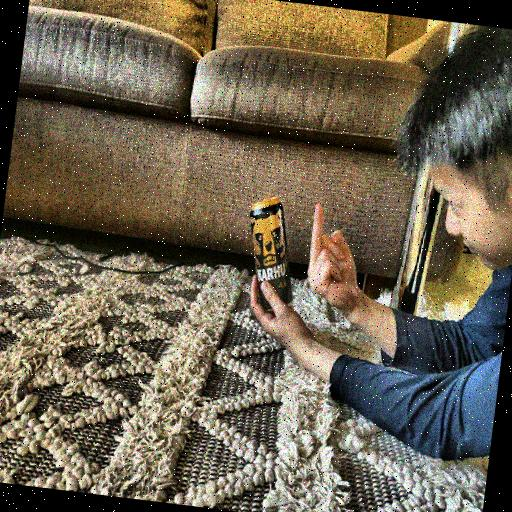karhu: (235, 184, 306, 317)
